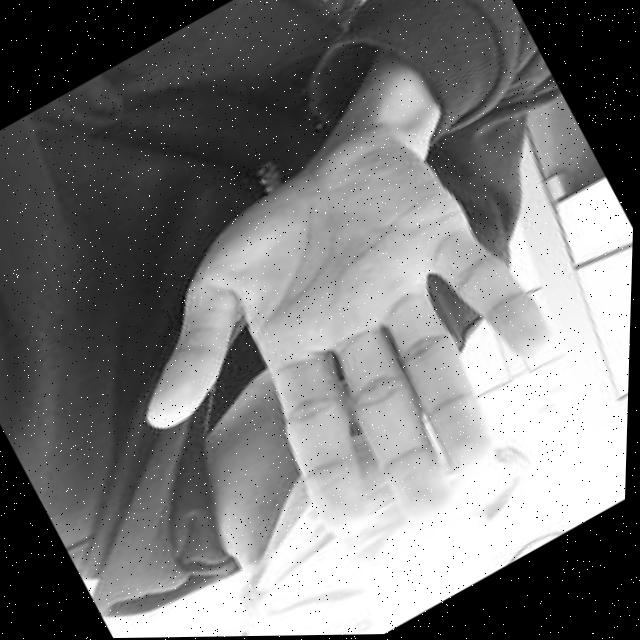hand: (72, 91, 614, 627)
